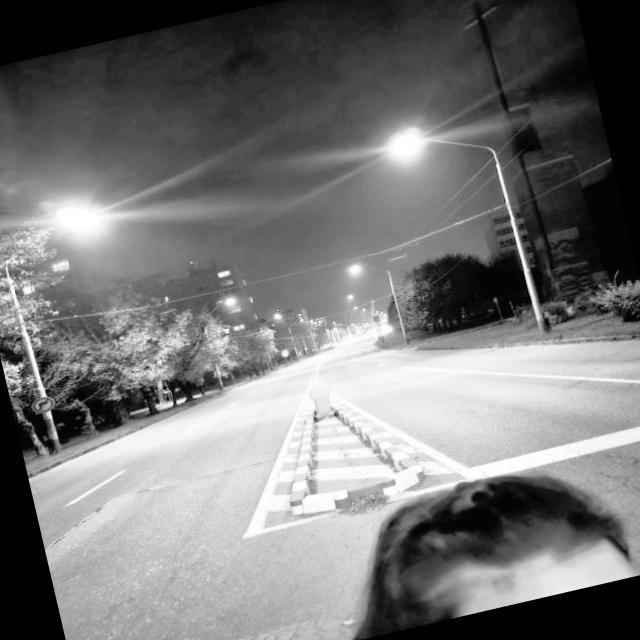Light: (396, 108, 548, 354), (0, 202, 139, 455), (350, 257, 408, 352), (197, 296, 254, 391), (247, 304, 298, 372)
